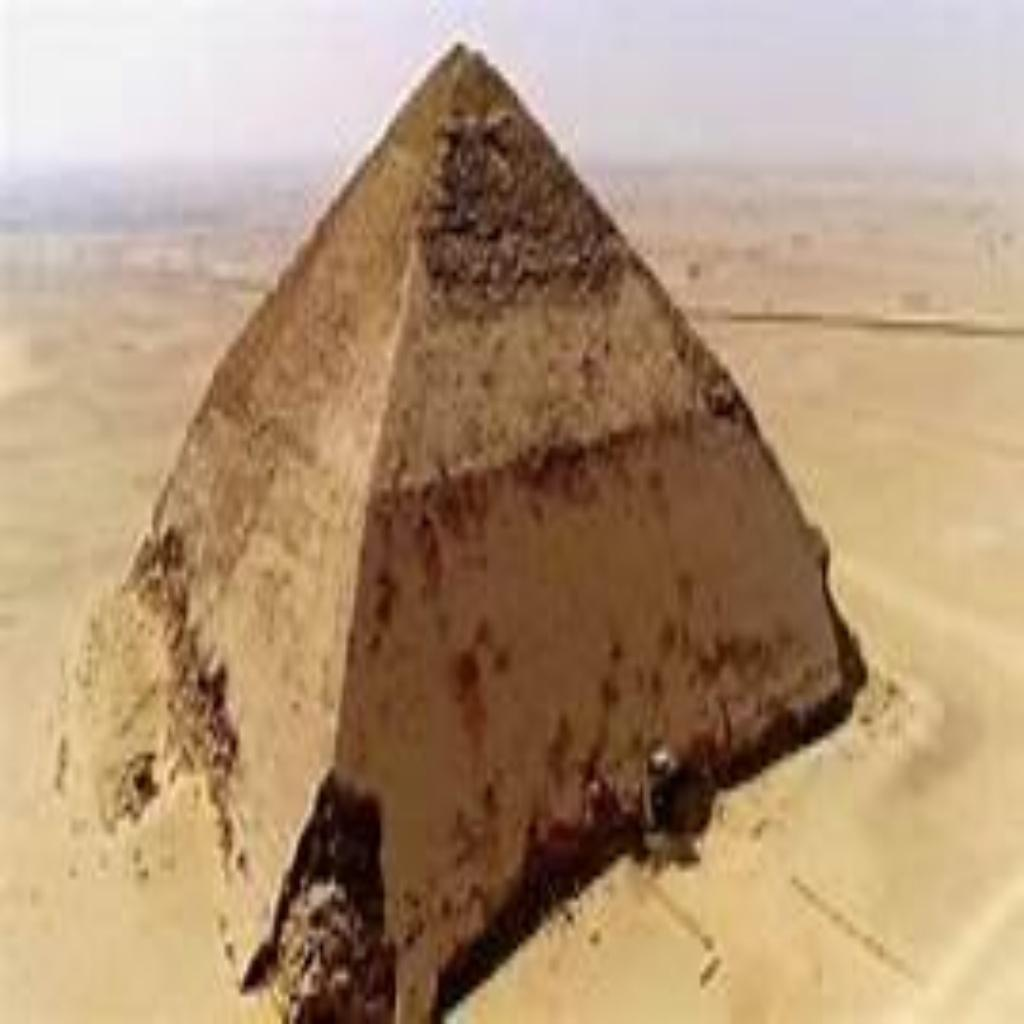Bent Pyramid of King Sneferu: (53, 30, 868, 1010)
